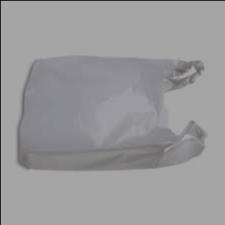Plastic: (3, 50, 217, 175)
